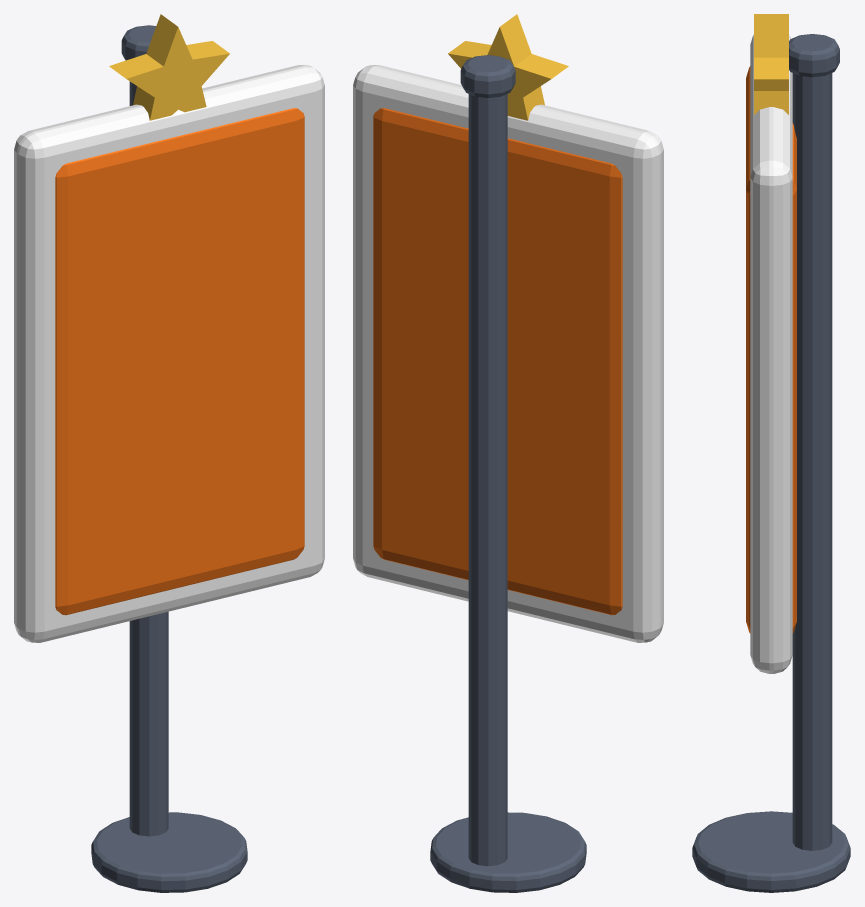
File: stade_panneau_grand.fbx
3 renders of one model, left to right at view 1: azimuth 30°, elevation 25°; view 2: azimuth 150°, elevation 25°; view 3: azimuth 270°, elevation 25°, orthographic.
Visible parts, largest first — view 1: stade_panneau_grand_Face, stade_panneau_grand_Blanc, stade_panneau_grand_Gris, stade_panneau_grand_Or; view 2: stade_panneau_grand_Face, stade_panneau_grand_Blanc, stade_panneau_grand_Gris, stade_panneau_grand_Or; view 3: stade_panneau_grand_Gris, stade_panneau_grand_Blanc, stade_panneau_grand_Face, stade_panneau_grand_Or.
Boxes of the visible parts, x1,y1,x2,y2 form: stade_panneau_grand_Face: [55, 108, 304, 615]; stade_panneau_grand_Blanc: [14, 65, 324, 642]; stade_panneau_grand_Gris: [91, 25, 247, 892]; stade_panneau_grand_Or: [109, 14, 229, 120]; stade_panneau_grand_Face: [373, 108, 622, 615]; stade_panneau_grand_Blanc: [353, 65, 663, 642]; stade_panneau_grand_Gris: [430, 55, 586, 892]; stade_panneau_grand_Or: [448, 14, 568, 120]; stade_panneau_grand_Gris: [692, 34, 850, 892]; stade_panneau_grand_Blanc: [750, 35, 792, 673]; stade_panneau_grand_Face: [746, 66, 796, 633]; stade_panneau_grand_Or: [754, 14, 788, 114].
Bounding box in the file's own units: 5 × 13.25 × 2.24.
